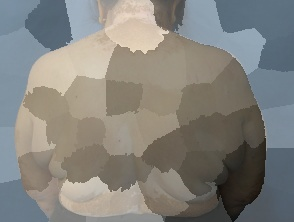vitiligo: (13, 0, 269, 222)
